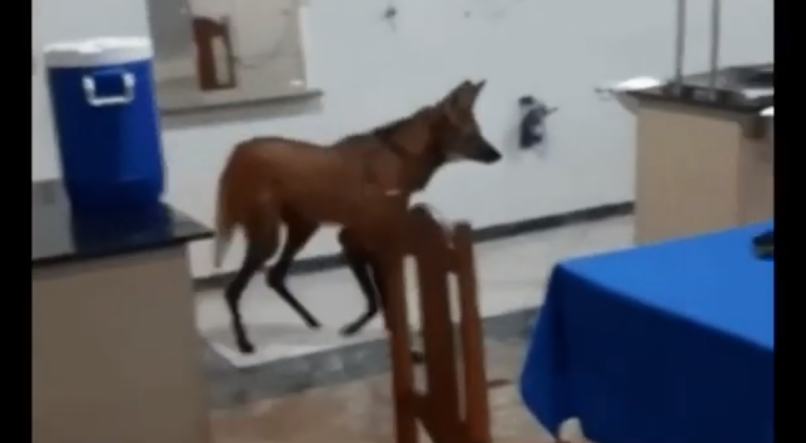LoboGuara: (210, 77, 508, 291)
